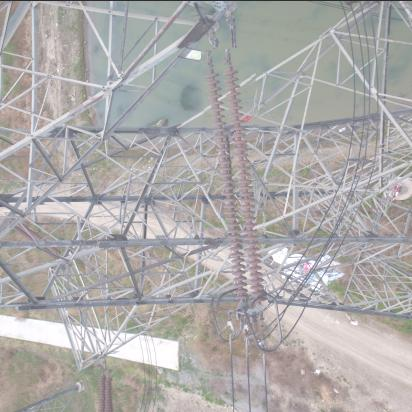insulator: (206, 49, 266, 311), (95, 369, 114, 412)
